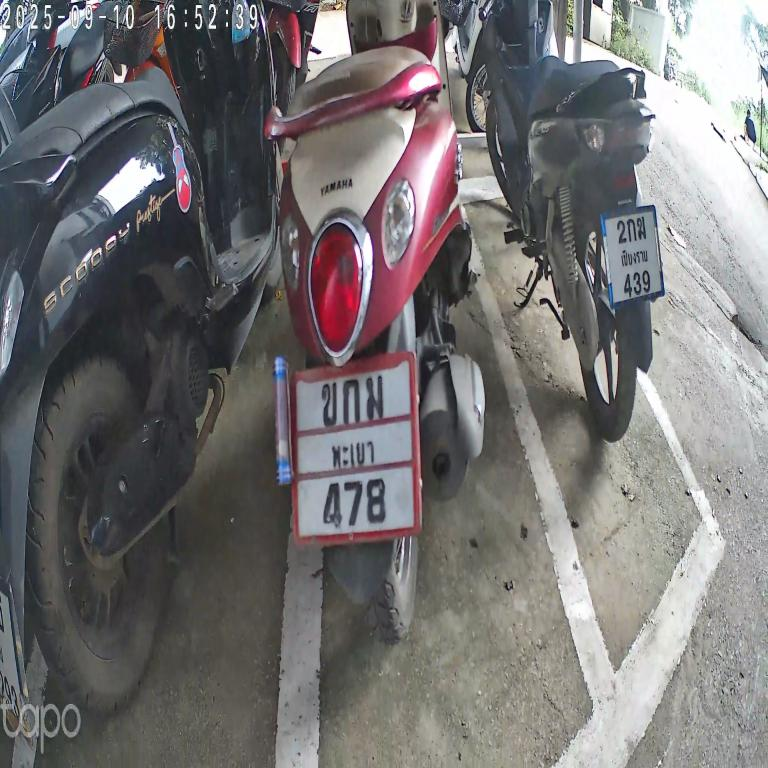license plate: (279, 347, 428, 553), (596, 199, 670, 313)
